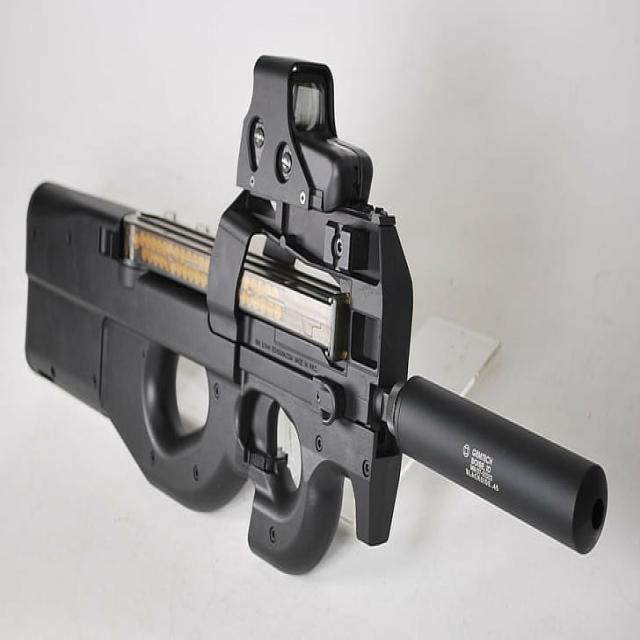Gun: (1, 52, 628, 593)
